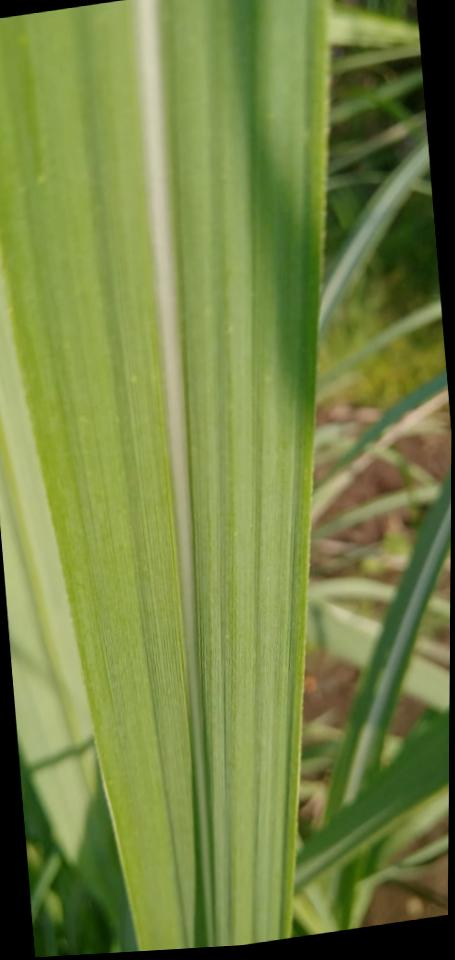Healthy: (0, 0, 330, 951)
